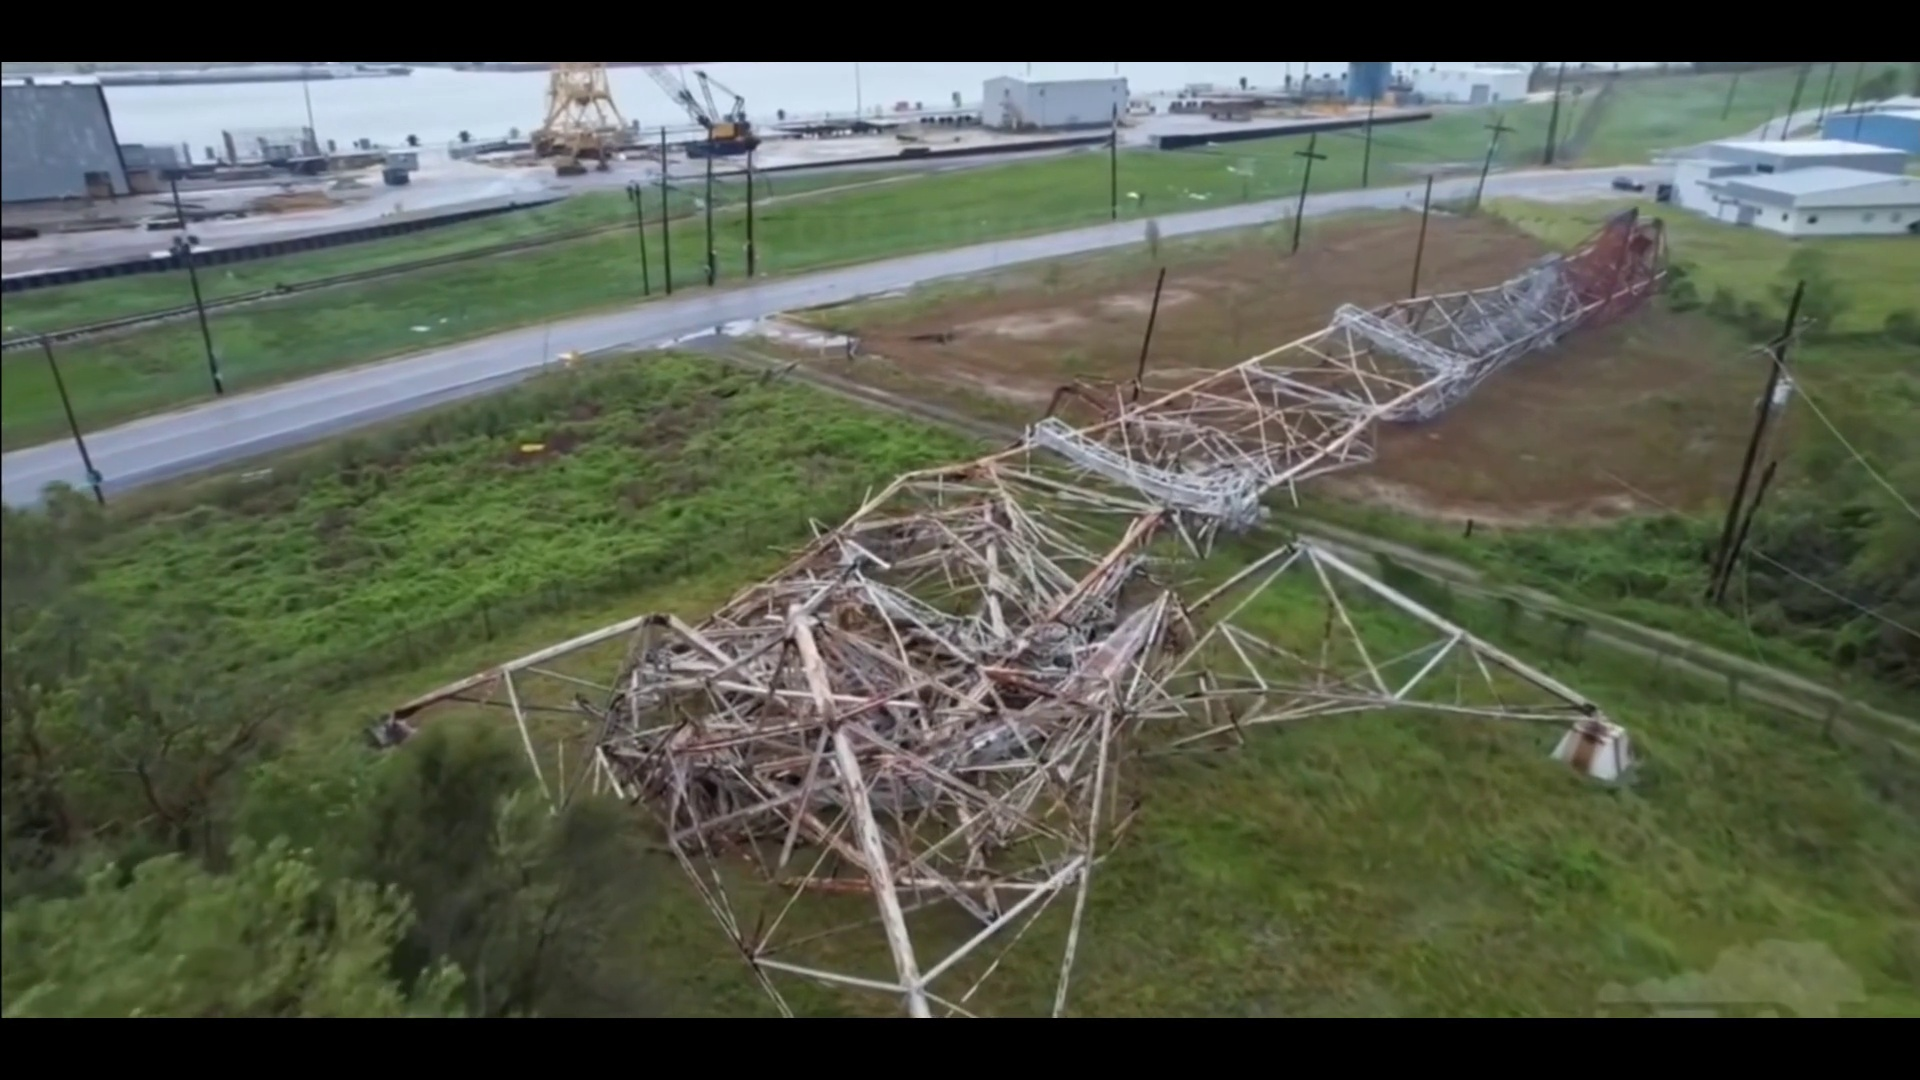tower_down: (464, 145, 1705, 1000)
